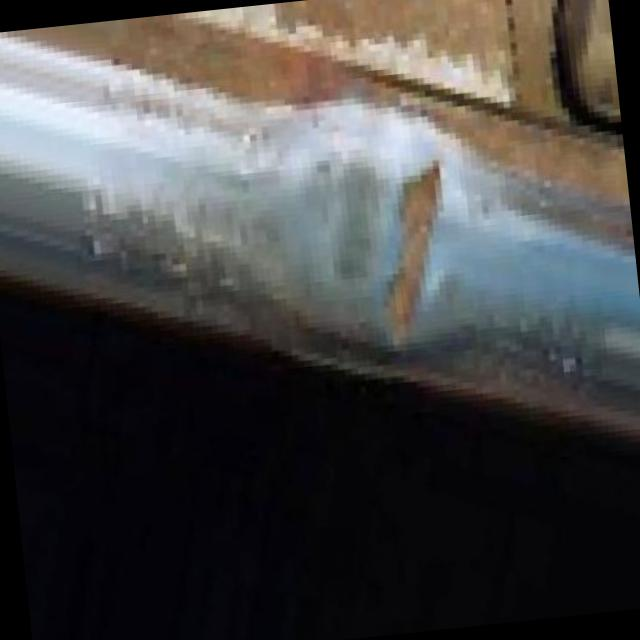defective: (101, 19, 603, 416)
